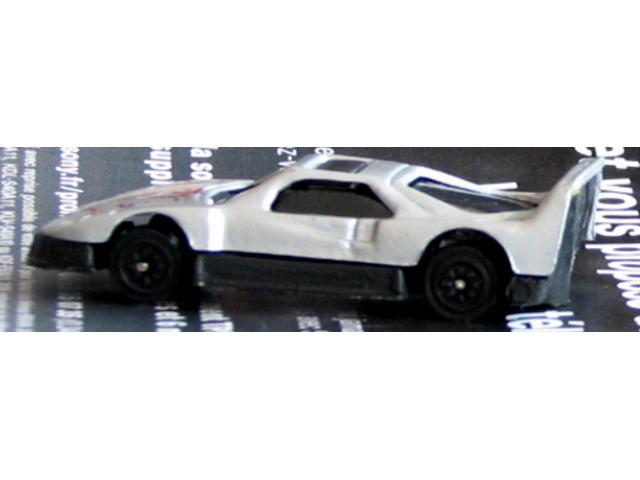toy-car: (23, 152, 606, 324)
